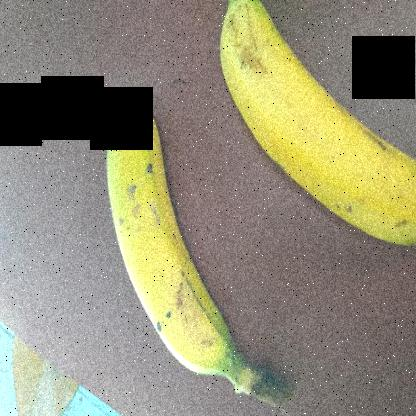freshripe: (192, 1, 416, 256)
ripe: (96, 77, 243, 387)
